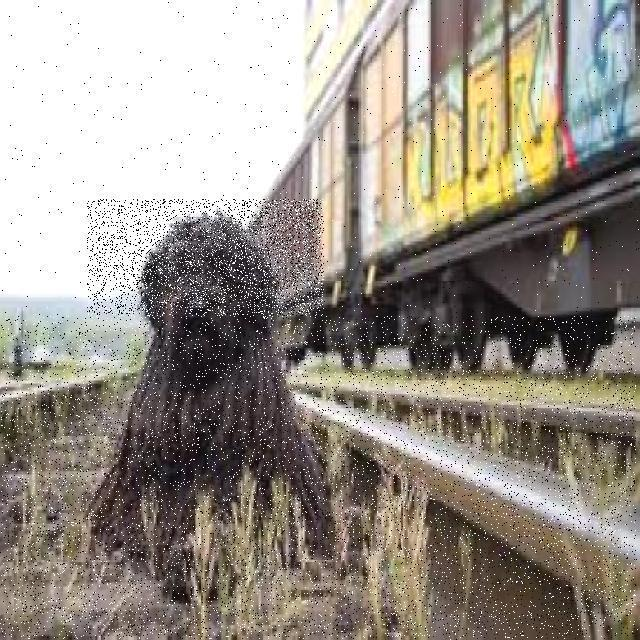danger: (87, 199, 324, 601)
rail: (1, 317, 636, 639)
